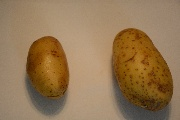potato: (111, 27, 174, 113), (26, 34, 69, 99)
